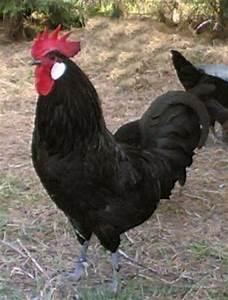hen: (28, 23, 211, 295), (169, 48, 227, 145)
